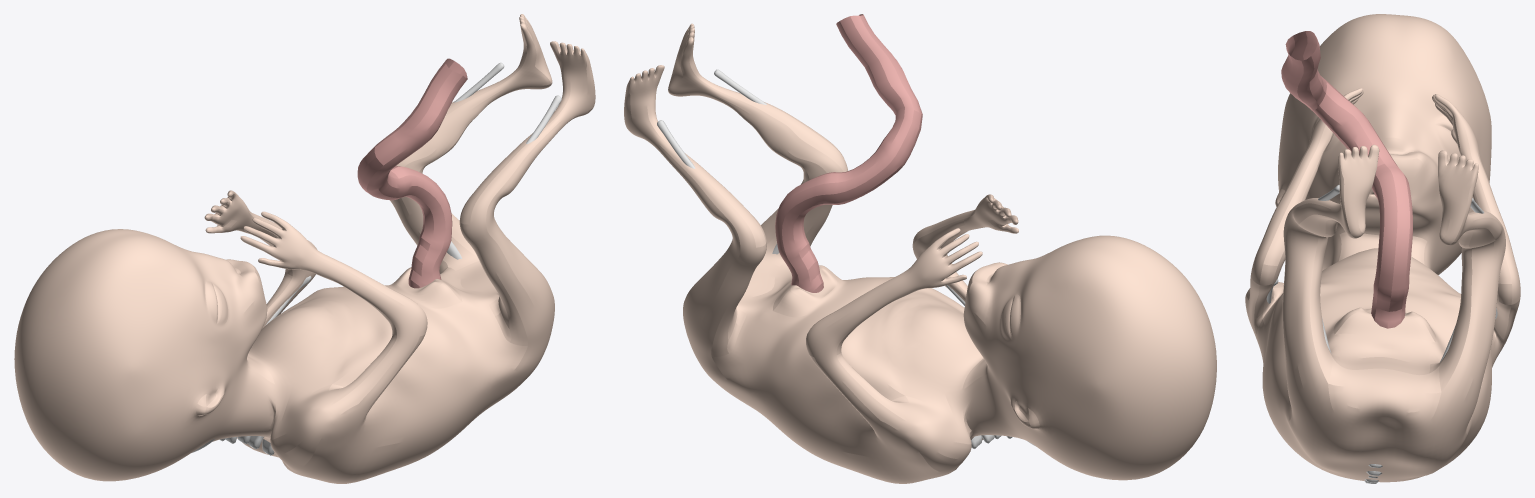
File: week08.glb
3 views of the same model, side by side, from view 1: azimuth 30°, elevation 25°; view 2: azimuth 150°, elevation 25°; view 3: azimuth 270°, elevation 25° (orthographic). The views are drawn at different scales.
Parts seen in each view (by area): view 1: FetusBody_Skin_Master, UmbilicalCord_Master, legbones; view 2: FetusBody_Skin_Master, UmbilicalCord_Master, legbones; view 3: FetusBody_Skin_Master, UmbilicalCord_Master, legbones.
Part boxes in pixels (x1=…): FetusBody_Skin_Master: x1=14, y1=14, x2=595, y2=483; UmbilicalCord_Master: x1=357, y1=58, x2=467, y2=288; legbones: x1=447, y1=62, x2=561, y2=259; FetusBody_Skin_Master: x1=624, y1=23, x2=1216, y2=483; UmbilicalCord_Master: x1=775, y1=14, x2=922, y2=292; legbones: x1=657, y1=69, x2=779, y2=254; FetusBody_Skin_Master: x1=1245, y1=14, x2=1520, y2=482; UmbilicalCord_Master: x1=1281, y1=31, x2=1412, y2=328; legbones: x1=1318, y1=184, x2=1484, y2=361.
Size of the model in its own units: 1.01 by 0.712 by 0.3845.
